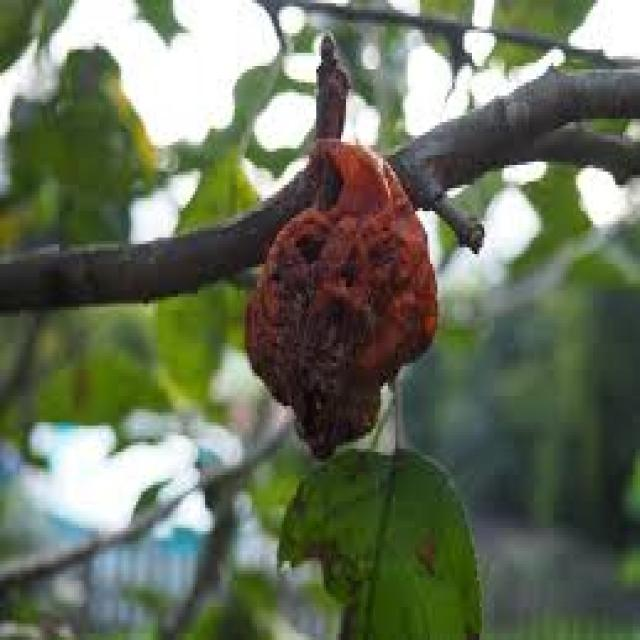organic waste: (245, 135, 437, 459)
